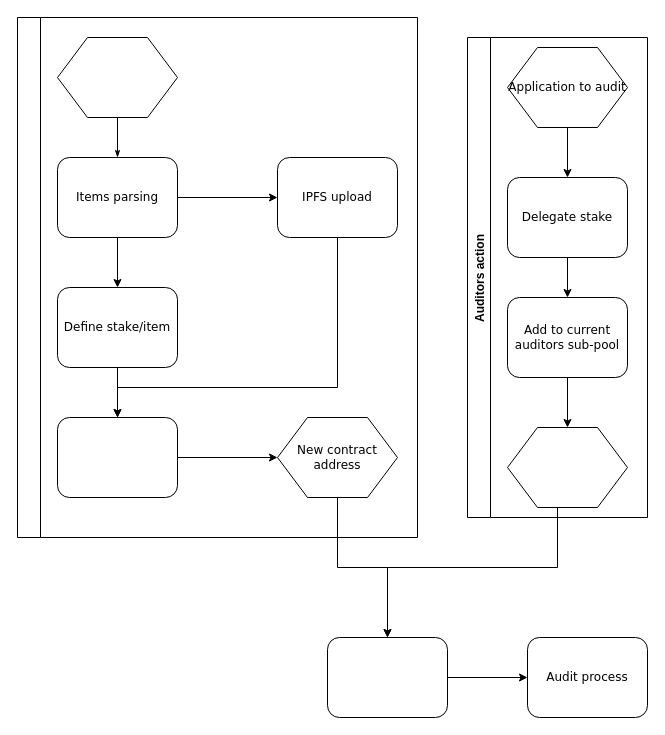
This 665x735 diagram has some shape labels left out. Here are the shapes that lost their labels. From the top down, the box of each, then its label:
(56, 36, 178, 118): Initial submission
(16, 16, 418, 538): Aspis internal process
(56, 416, 178, 498): Call factory contract: init(stakes[], IPFS[])
(506, 426, 628, 508): Sub-pool of auditors
(326, 636, 448, 718): Call child contract: auditors assignement (subpool[])
